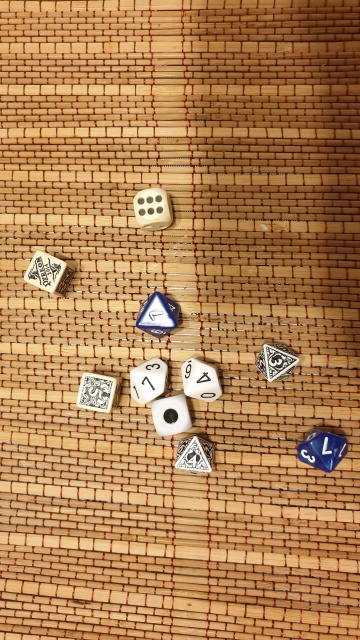d10-4: (180, 353, 225, 407)
d10-7: (290, 422, 354, 476), (135, 289, 185, 343), (122, 356, 170, 407)
d6-1: (149, 393, 194, 437)
d6-6: (128, 183, 178, 234)
d6p-1: (21, 249, 77, 299)
d6p-5: (71, 367, 127, 418)
d8p-3: (253, 337, 302, 387)
d8p-4: (169, 434, 218, 477)
